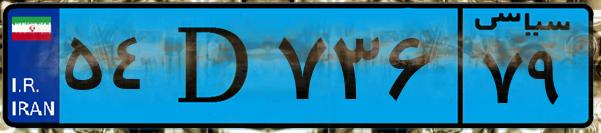3: (330, 28, 385, 110)
4: (110, 28, 158, 98)
5: (57, 26, 110, 100)
6: (385, 28, 445, 110)
7: (270, 28, 330, 110), (475, 38, 525, 113)
9: (525, 38, 570, 115)
D: (158, 12, 270, 120)
